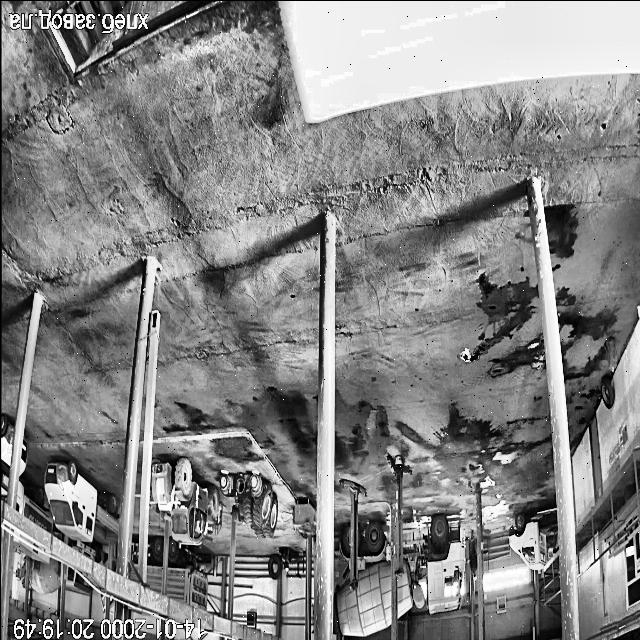car lift: (340, 479, 366, 588), (388, 455, 411, 574)
mechanic: (468, 531, 476, 578)
tractor: (151, 459, 222, 544), (220, 475, 278, 537)
truck: (396, 516, 464, 616), (334, 523, 392, 636), (44, 460, 118, 541), (167, 540, 207, 612), (508, 515, 556, 570), (20, 487, 52, 532), (0, 413, 14, 498), (30, 557, 60, 594), (146, 538, 163, 592), (12, 538, 48, 563), (66, 567, 92, 595), (70, 543, 104, 563), (130, 543, 140, 579), (20, 439, 27, 476), (18, 564, 24, 587)
